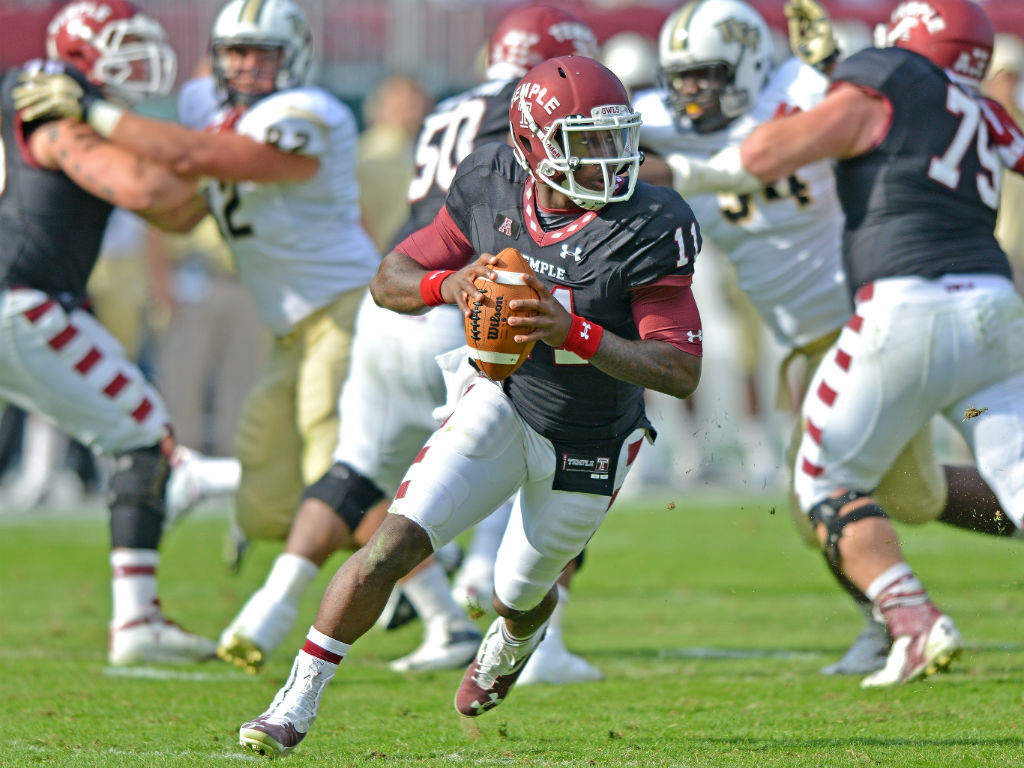futbol americano: (464, 247, 543, 381)
